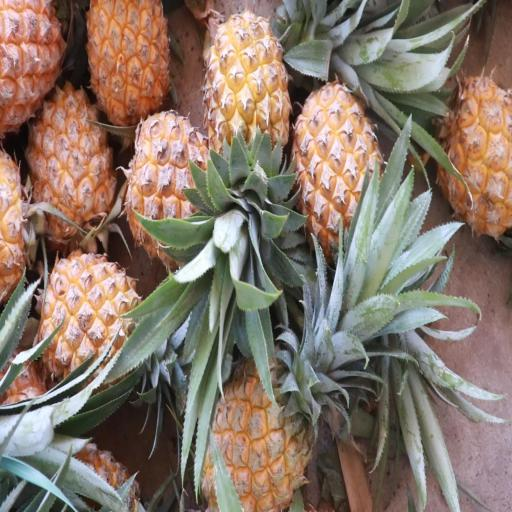Pineapple - v8 v1: (196, 348, 344, 512), (294, 80, 394, 266), (44, 246, 160, 404), (210, 13, 303, 210), (130, 111, 233, 280), (28, 78, 125, 255), (442, 65, 512, 247), (94, 2, 184, 136)
